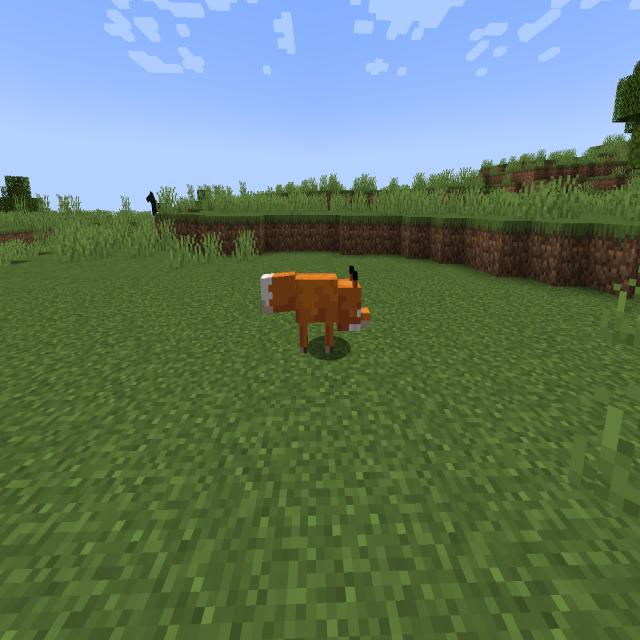Fox: (256, 255, 377, 364)
